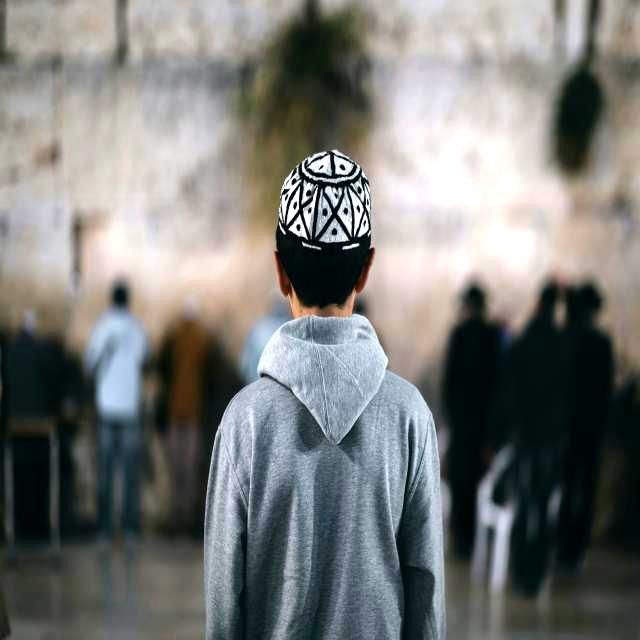no_hard_hat: (276, 150, 374, 309)
person: (204, 150, 445, 640)
